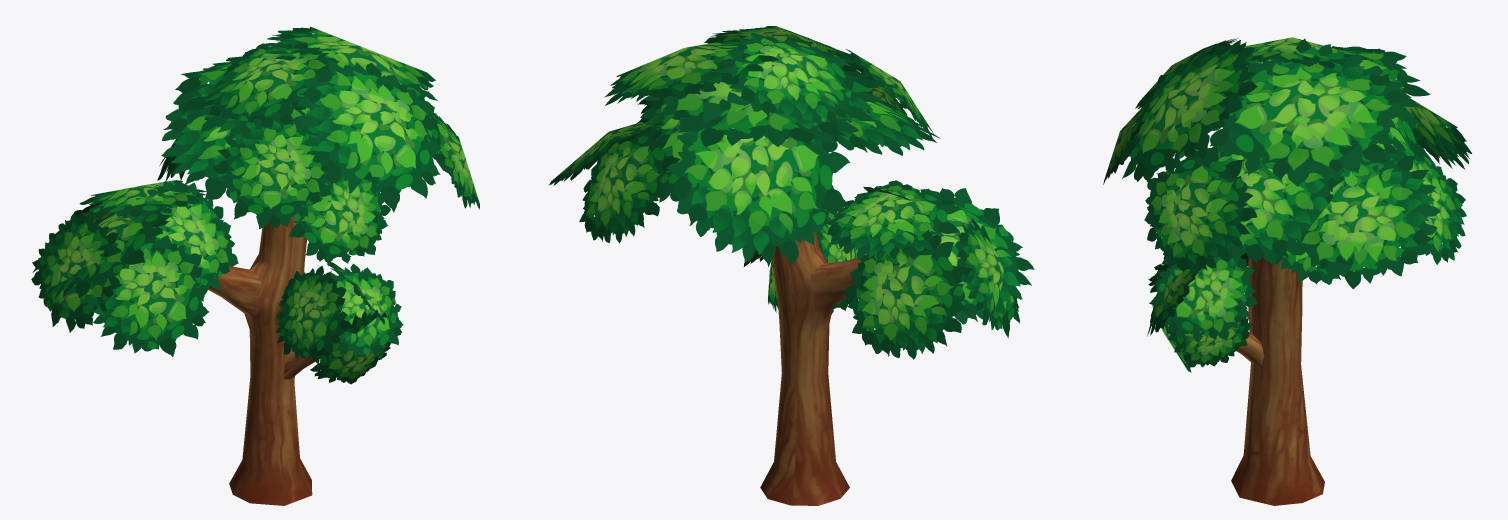
Rendered from SM_Tree.fbx.
3 views of the same model, side by side, from view 1: azimuth 30°, elevation 25°; view 2: azimuth 150°, elevation 25°; view 3: azimuth 270°, elevation 25° (orthographic). The views are drawn at different scales.
Parts seen in each view (by area): view 1: pPlane61_polySurface19; view 2: pPlane61_polySurface19; view 3: pPlane61_polySurface19.
Boxes of the visible parts, left/top/right/bottom form: pPlane61_polySurface19: left=31, top=26, right=479, bottom=505; pPlane61_polySurface19: left=549, top=26, right=1034, bottom=505; pPlane61_polySurface19: left=1103, top=37, right=1471, bottom=505.
Bounding box in the file's own units: 876 × 826 × 622.
1 material, 1 textured.
